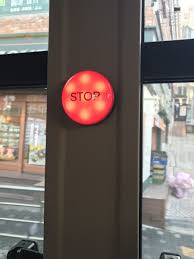bell: (59, 68, 116, 128)
